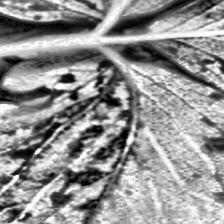Angular Leafspot: (0, 25, 224, 224), (137, 0, 224, 124), (0, 0, 224, 27)
